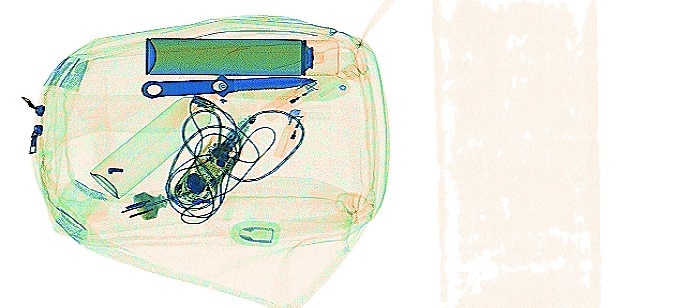knife: (139, 70, 318, 98)
lighter: (259, 74, 322, 123), (272, 104, 308, 160)
pressure: (87, 89, 220, 201), (139, 33, 340, 78)
